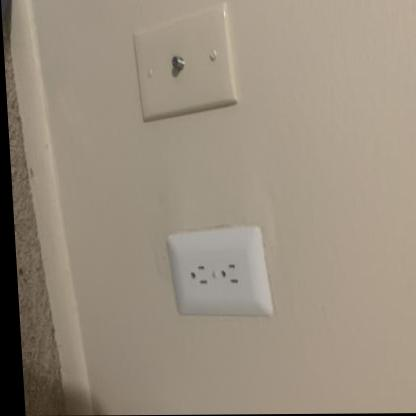OUTLET: (165, 231, 272, 317)
